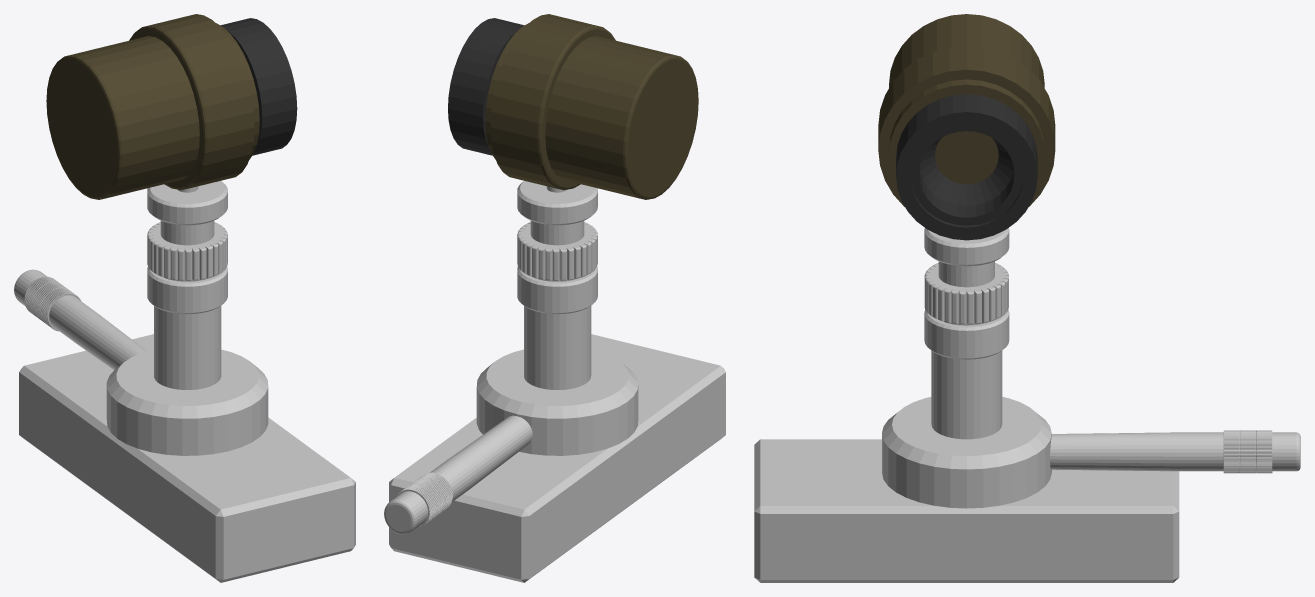
File: 接收器.fbx
The picture shows the model from 3 angles, left to right: view 1: azimuth 30°, elevation 25°; view 2: azimuth 150°, elevation 25°; view 3: azimuth 270°, elevation 25°; orthographic projection. The views are drawn at different scales.
Visible parts, largest first — view 1: 底座, 镜筒, 支柱, 镜头, 旋把; view 2: 底座, 镜筒, 支柱, 旋把, 镜头; view 3: 底座, 镜筒, 支柱, 镜头, 旋把.
Boxes of the visible parts, box(x1,y1,x2,y2) form: 底座: box(19, 334, 355, 582); 镜筒: box(46, 14, 259, 199); 支柱: box(147, 181, 227, 389); 镜头: box(221, 18, 297, 155); 旋把: box(14, 269, 146, 369); 底座: box(389, 334, 725, 582); 镜筒: box(485, 14, 698, 199); 支柱: box(517, 180, 597, 389); 旋把: box(384, 415, 532, 534); 镜头: box(448, 18, 524, 155); 底座: box(754, 397, 1179, 582); 镜筒: box(878, 14, 1055, 206); 支柱: box(924, 228, 1009, 439); 镜头: box(896, 94, 1037, 240); 旋把: box(1050, 430, 1300, 473).
Size of the model in its own units: 62.02 by 153 by 154.
